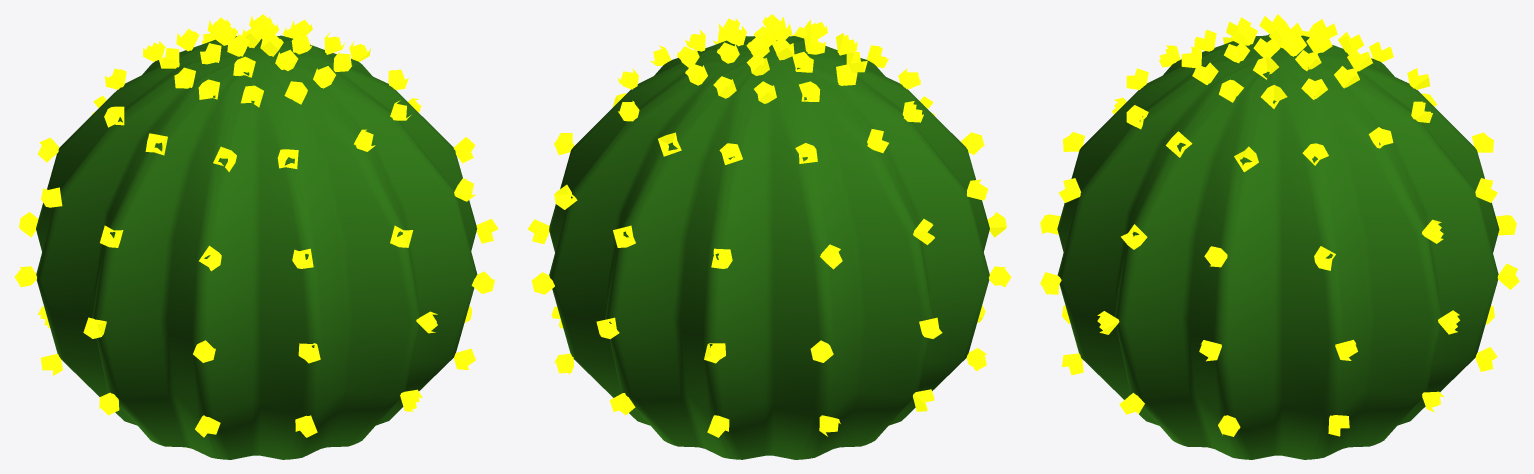
The model's file is kaktus03.fbx.
The picture shows the model from 3 angles, left to right: view 1: azimuth 30°, elevation 25°; view 2: azimuth 150°, elevation 25°; view 3: azimuth 270°, elevation 25°; orthographic projection.
Visible parts, largest first — view 1: kaktus03; view 2: kaktus03; view 3: kaktus03.
Boxes of the visible parts, box(x1,y1,x2,y2) form: kaktus03: box(14, 14, 498, 459); kaktus03: box(527, 14, 1011, 459); kaktus03: box(1040, 14, 1519, 459).
Bounding box in the file's own units: 0.5409 × 0.5445 × 0.4593.
